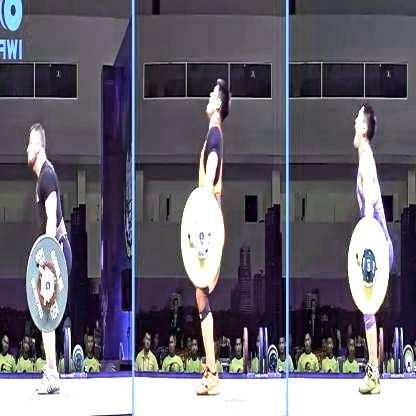Barbell: (191, 217, 206, 255), (359, 249, 374, 282), (39, 275, 52, 302)
